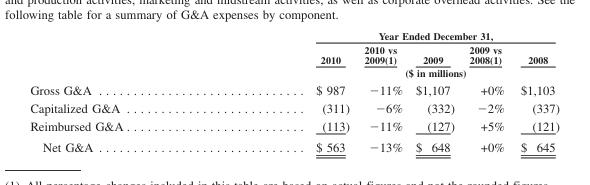table: (29, 29, 558, 153)
table column: (29, 29, 218, 153), (218, 29, 356, 153), (408, 29, 461, 153), (356, 29, 408, 153), (461, 29, 511, 153), (511, 29, 558, 153)
table column header: (29, 29, 558, 80)
table row: (29, 41, 558, 65), (29, 116, 558, 135), (29, 80, 558, 98), (29, 98, 558, 116), (29, 135, 558, 153), (29, 65, 558, 80), (29, 29, 558, 41)
table spanning cell: (218, 65, 558, 80), (218, 29, 558, 41)
